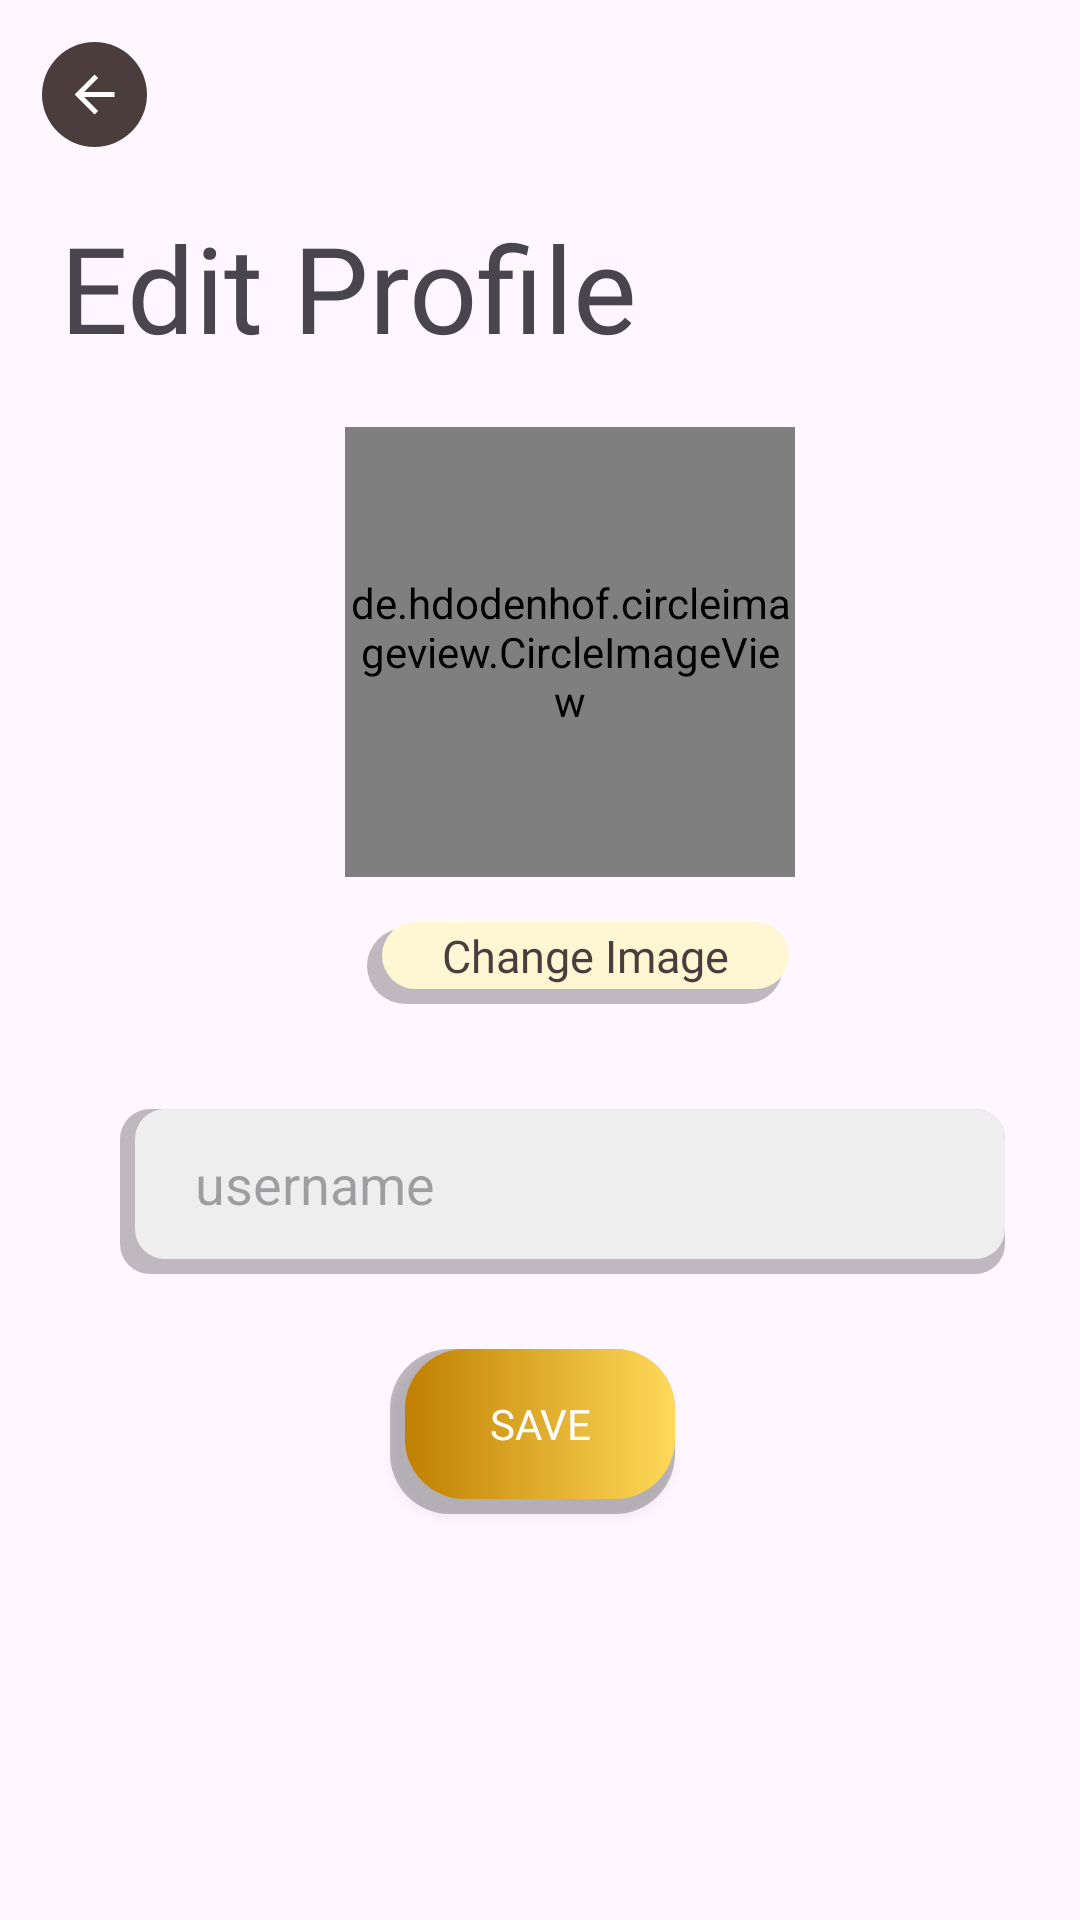

Where to tap for icons on this 1080px×1920px app screen, as point (x, y):
back: point (94, 94)
